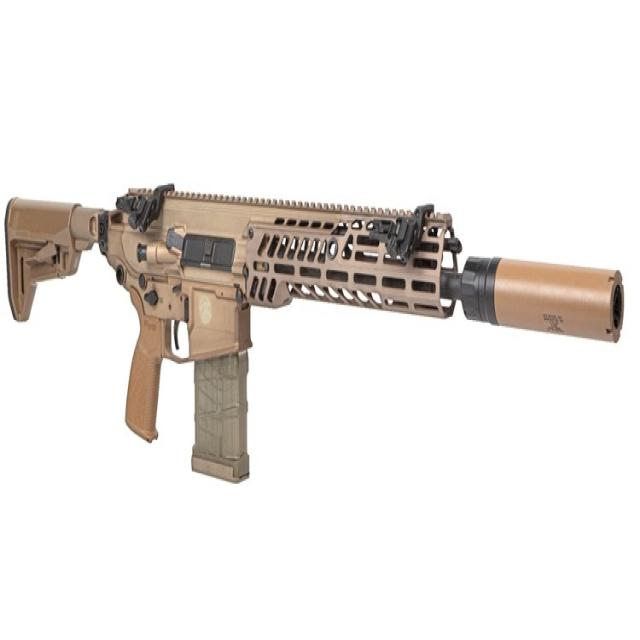Rifle: (1, 184, 626, 487)
